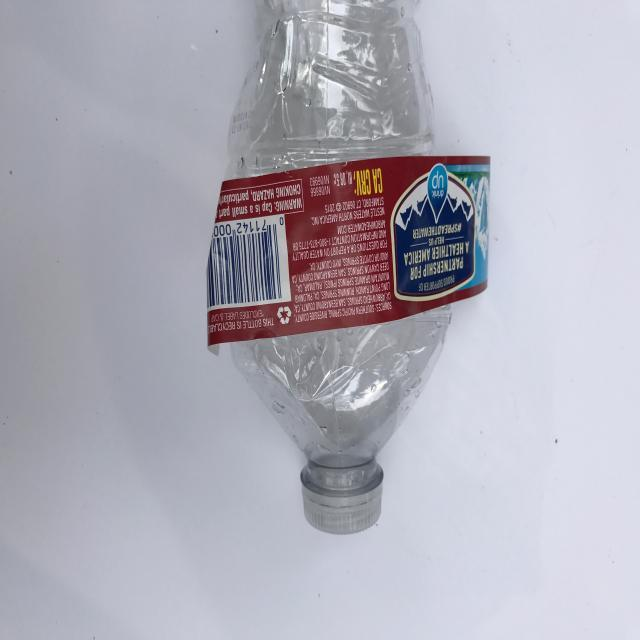plastic: (200, 1, 494, 548)
